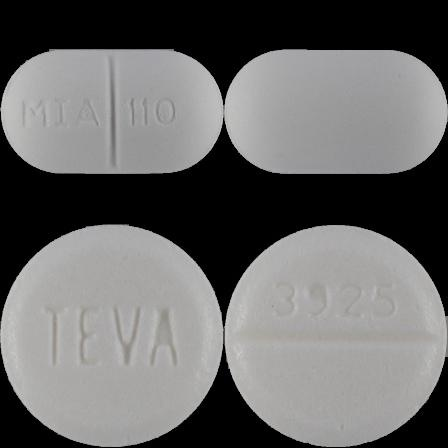61786-365: (0, 0, 224, 224)
